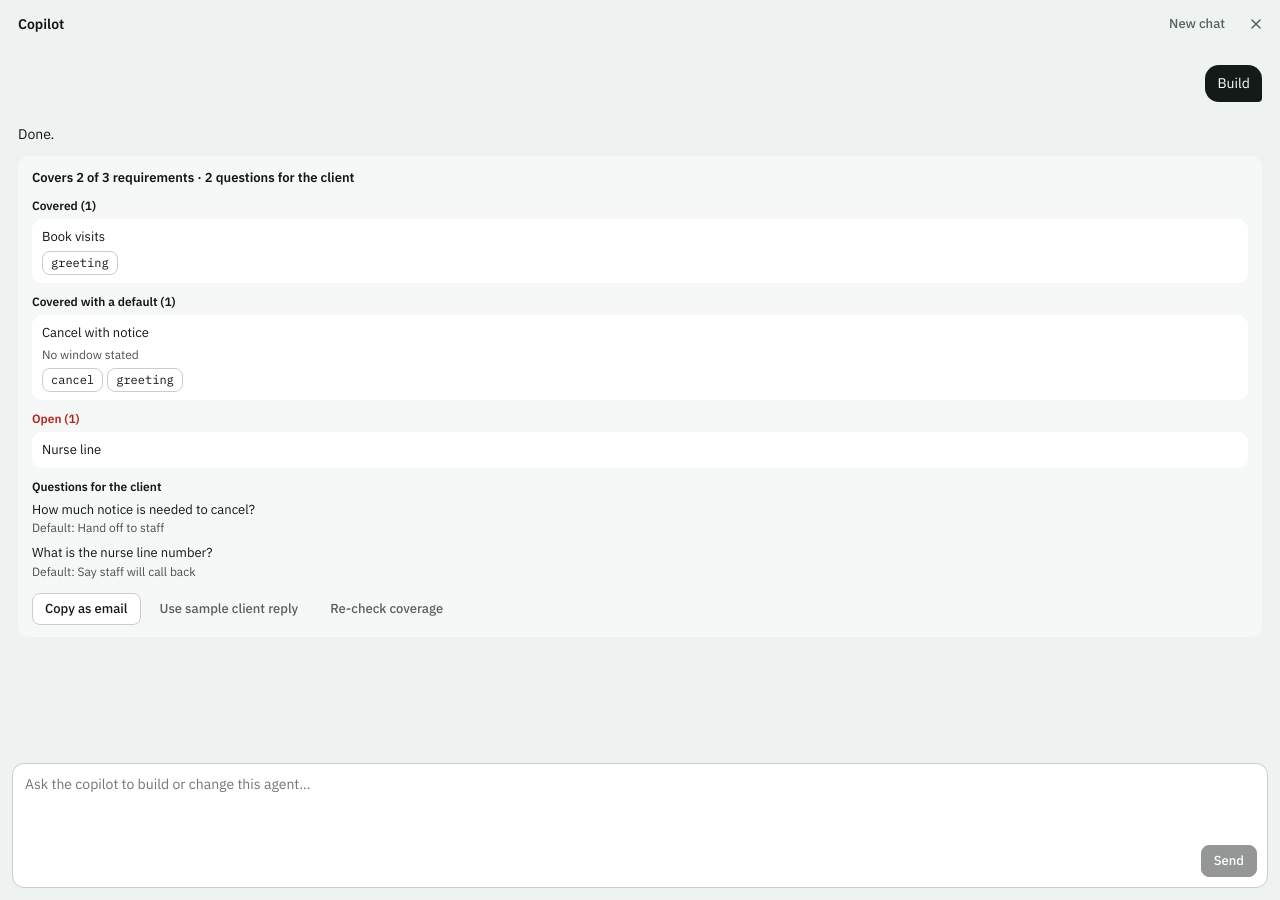
Test case: CoverageCard › offers the sample client reply only for sample guidelines, and only prefills it
The width and height of the screenshot is (1280, 900).
Click the button "Use sample client reply" at coordinates (229, 609), box [146, 593, 311, 625]
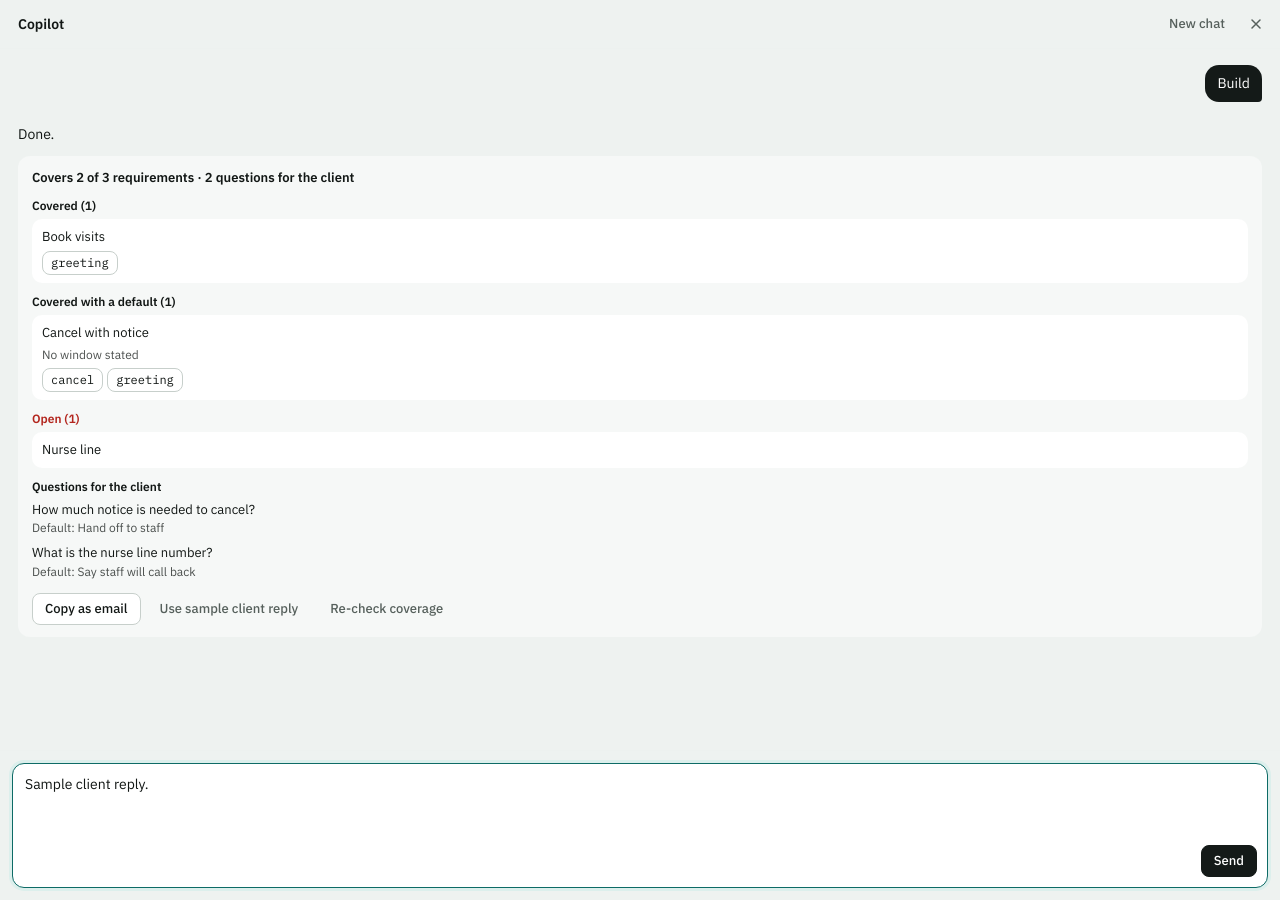
Now the text box named "Message to the copilot" holds "Sample client reply.", box [23, 774, 1257, 837]
